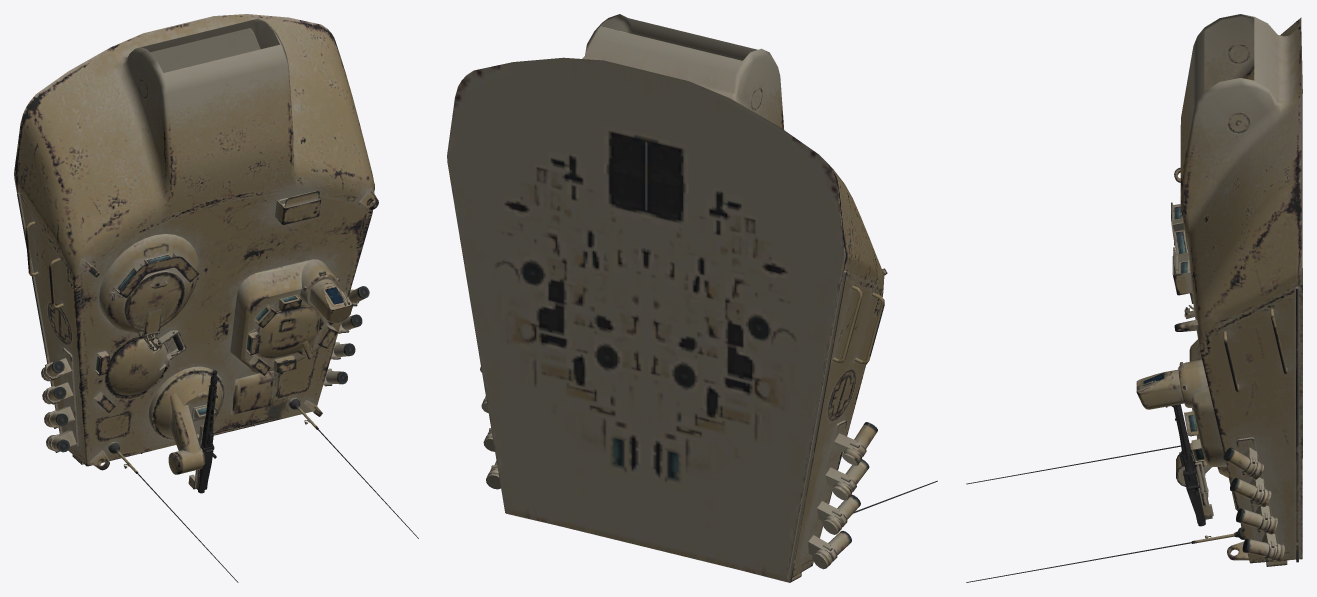
The model's file is Turret_01.glb.
3 views of the same model, side by side, from view 1: azimuth 30°, elevation 25°; view 2: azimuth 150°, elevation 25°; view 3: azimuth 270°, elevation 25° (orthographic). The views are drawn at different scales.
Visible parts, largest first — view 1: set_0_group_0; view 2: set_0_group_0; view 3: set_0_group_0.
Boxes of the visible parts, left/top/right/bottom form: set_0_group_0: left=14, top=14, right=418, bottom=582; set_0_group_0: left=447, top=14, right=937, bottom=582; set_0_group_0: left=966, top=14, right=1302, bottom=582.
Size of the model in its own units: 2.76 by 3.49 by 2.17.
1 material, 1 textured.
